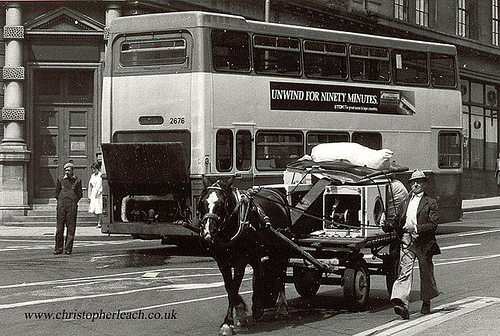horse: (197, 177, 295, 334)
